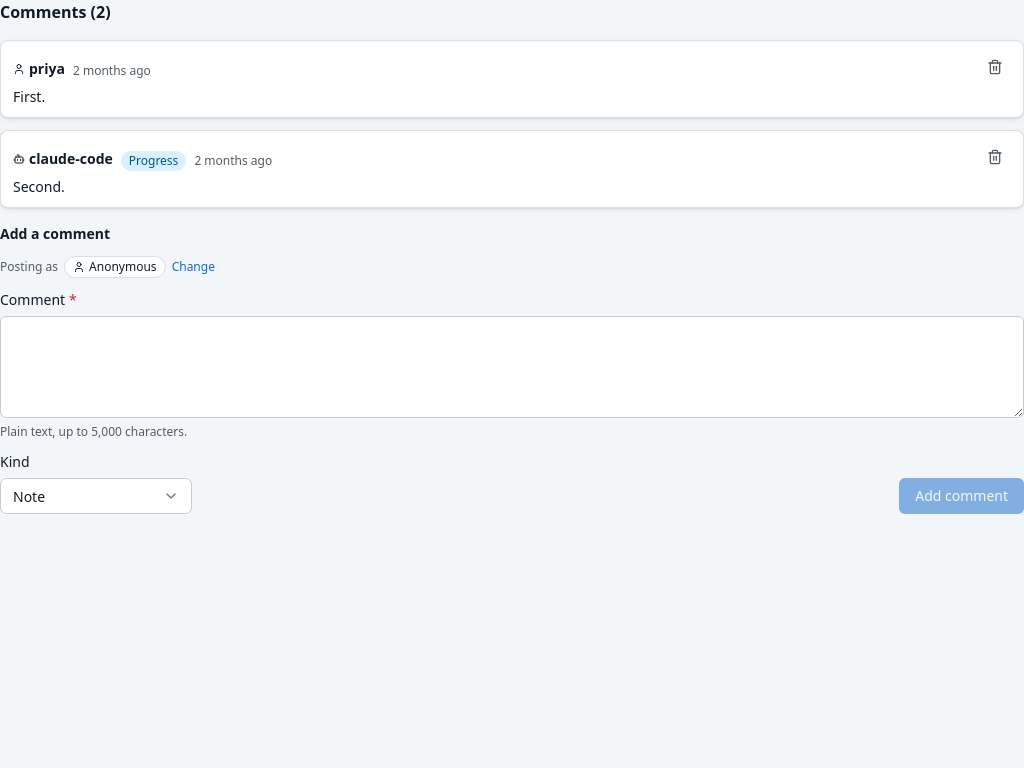
Test: CommentThread › refetches the thread when the delete fails, so a stale row cannot persist
Click the button named "Delete comment by priya".
click(995, 67)  # box [979,51,1011,83]
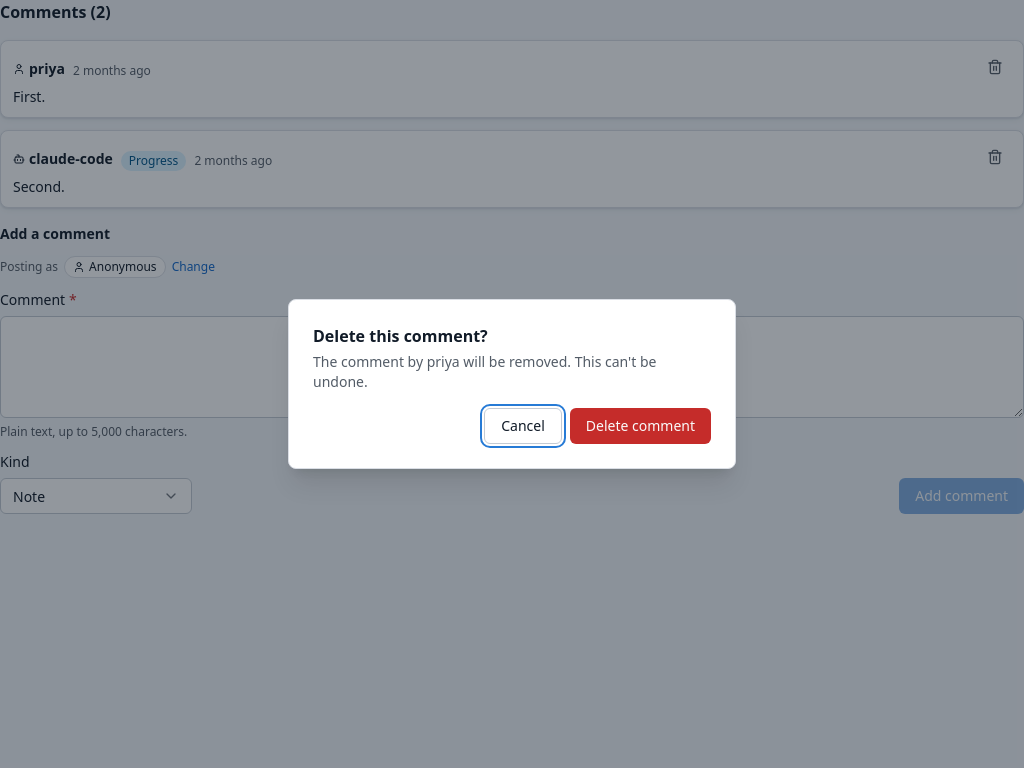
Click the button "Delete comment".
click(640, 426)  # box [570,408,711,444]
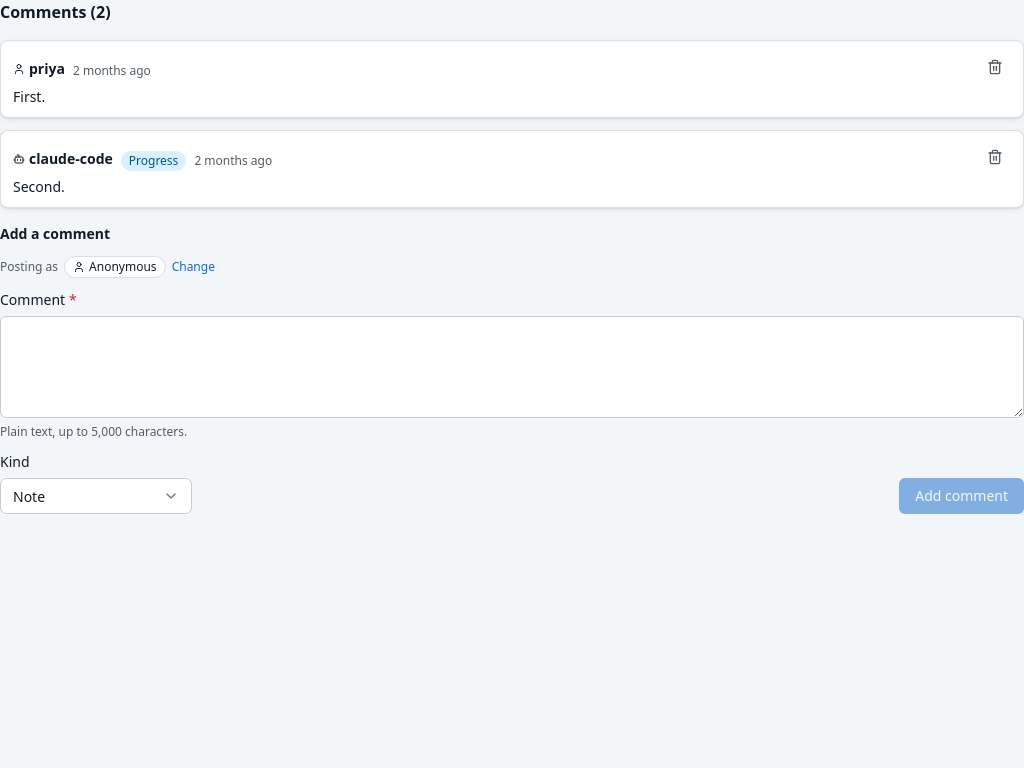
Expected: the dialog is gone
